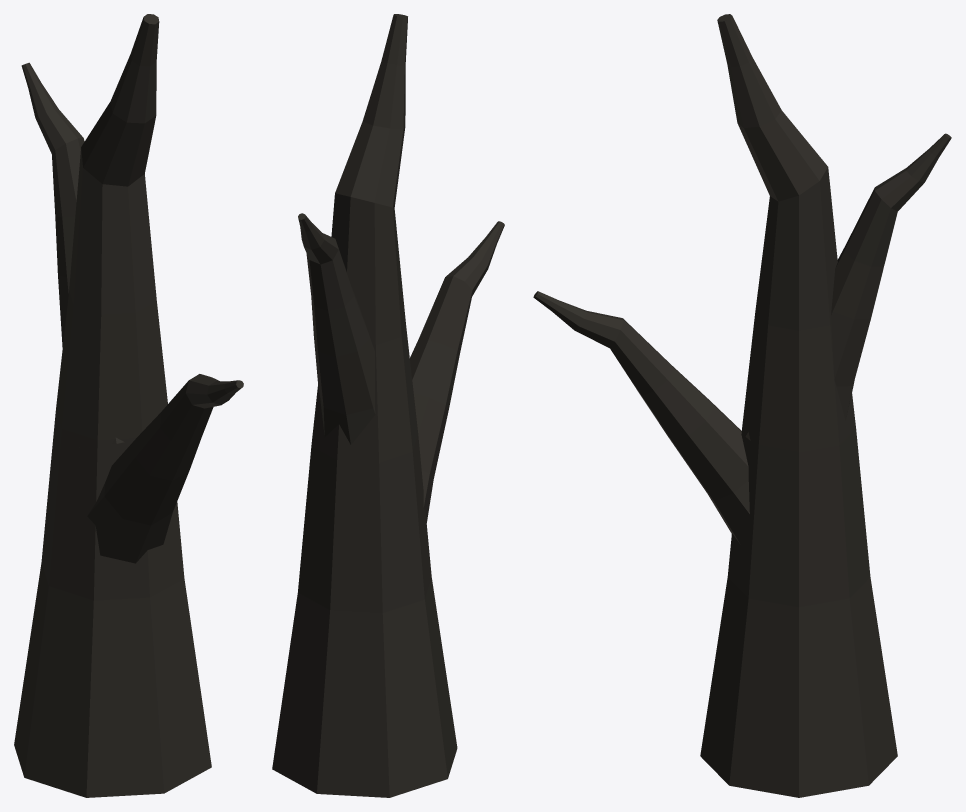
The model's file is SM_Env_Tree_03.fbx.
The picture shows the model from 3 angles, left to right: view 1: azimuth 30°, elevation 25°; view 2: azimuth 150°, elevation 25°; view 3: azimuth 270°, elevation 25°; orthographic projection. The views are drawn at different scales.
Visible parts, largest first — view 1: Cylinder.004; view 2: Cylinder.004; view 3: Cylinder.004.
Part boxes in pixels (x1=…): Cylinder.004: x1=14, y1=14, x2=243, y2=797; Cylinder.004: x1=272, y1=14, x2=504, y2=797; Cylinder.004: x1=533, y1=14, x2=951, y2=797.
Size of the model in its own units: 423 by 827 by 200.
